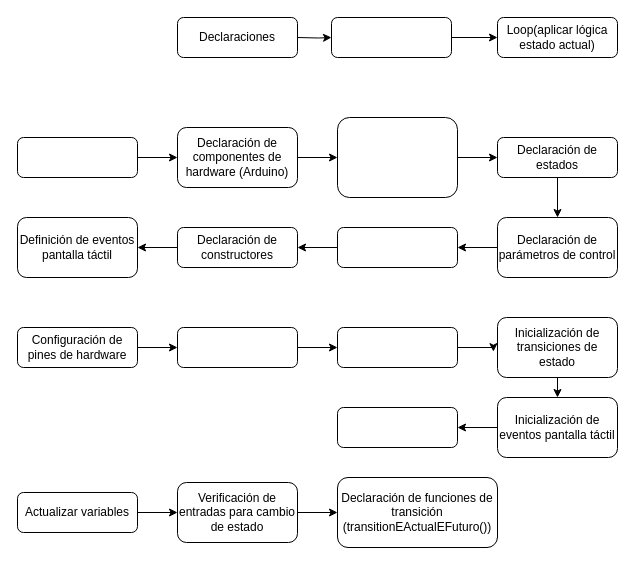
This 635x565 diagram has some shape labels left out. Each missing label, with the centre of its shape:
Configuración de botones: the point at 237,347
Declaración de banderas de estado: the point at 397,247
Declaración de componentes de sofware (pantalla táctil): the point at 397,157
Declaración de librerias: the point at 77,157
Inicialización de celda de carga: the point at 397,347
Reinicio de máquina: the point at 397,427
Setup: the point at 391,37
